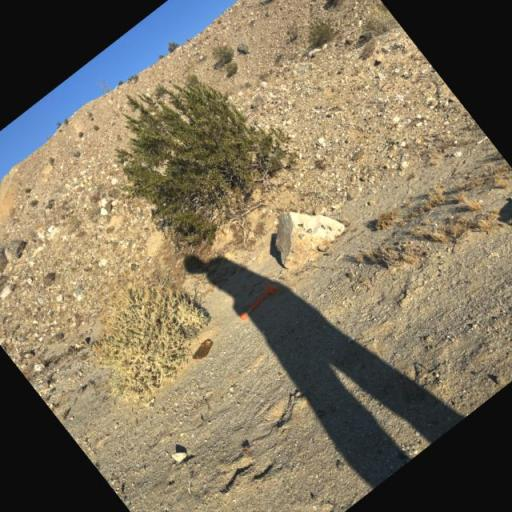mallet: (226, 268, 290, 330)
